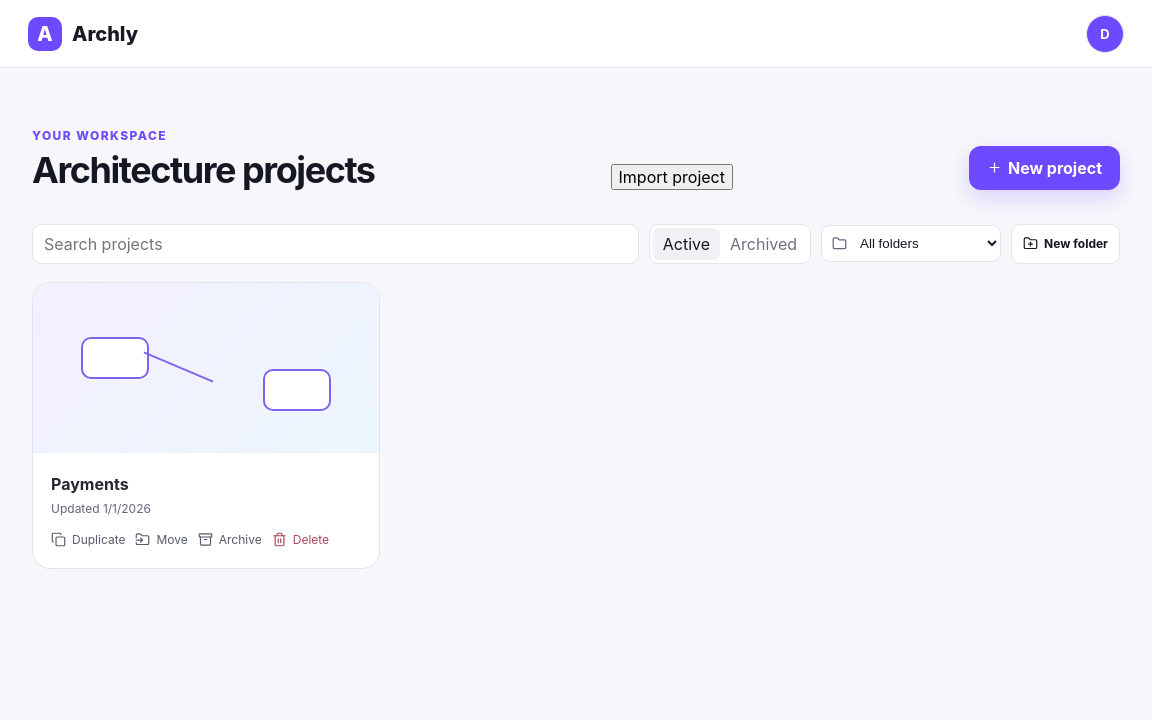
Dashboard project actions › creates and displays an empty persistent folder
What coordinates should you click on to do the following:
click the button "New folder"
I would click on:
 (1066, 244)
Its box is 1011,224 -> 1120,264.
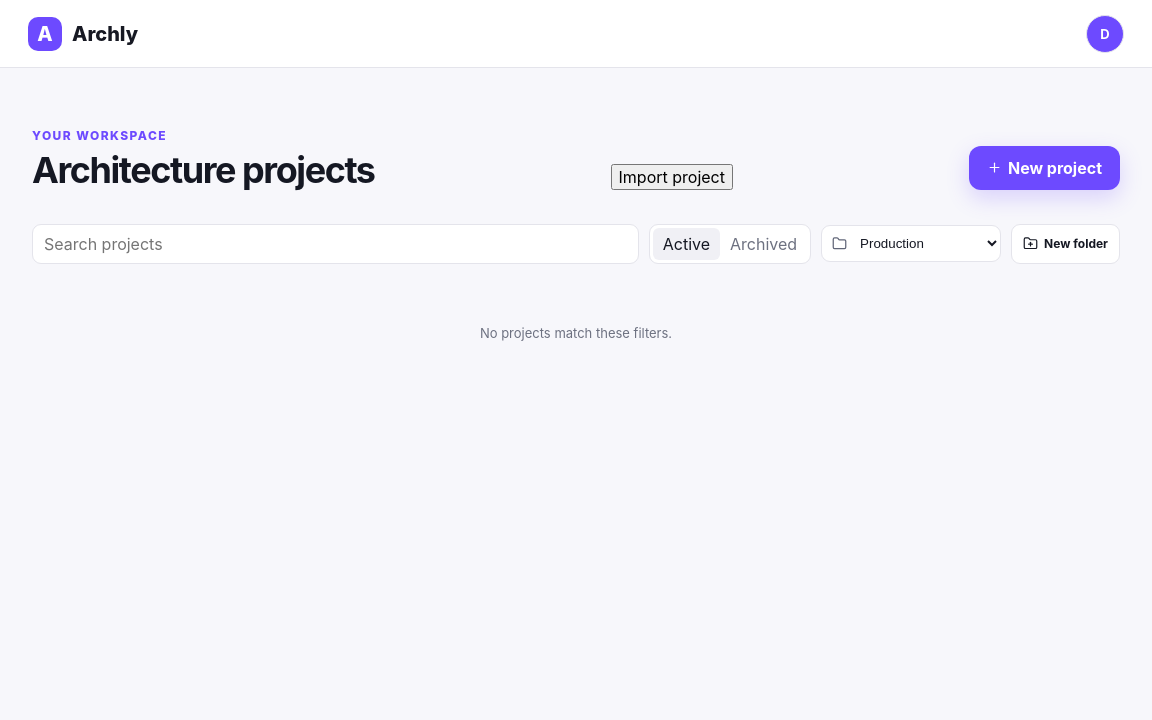
Check: the dropdown named "Project folder" shows "Production", box 821,225 -> 1001,262
